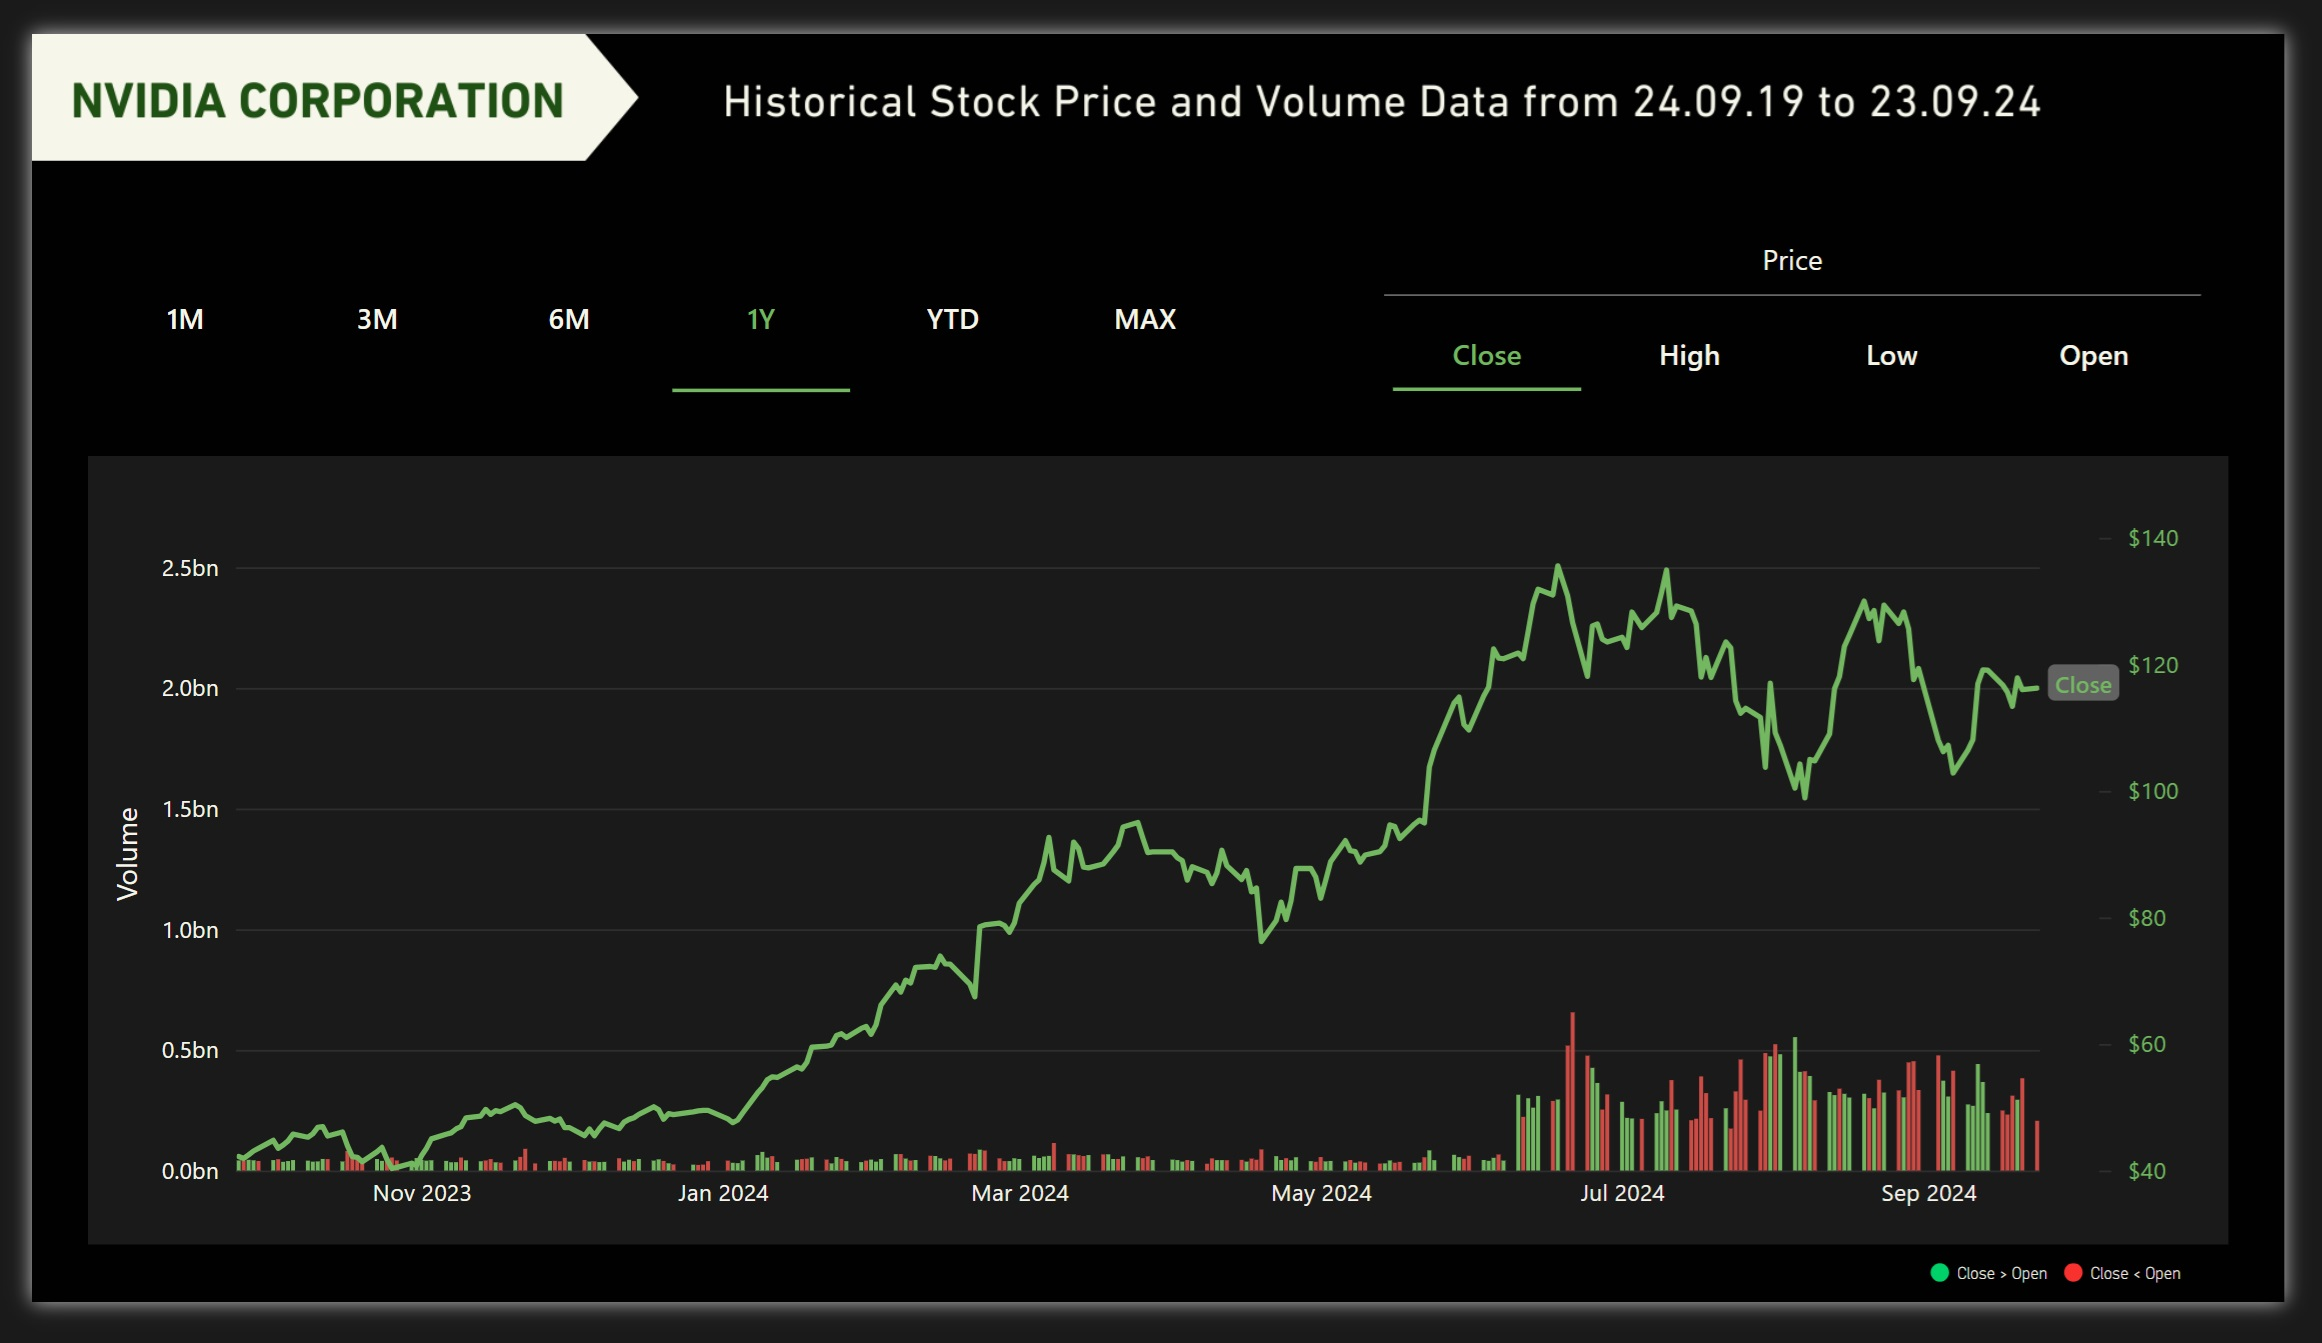

The page's visual inventory and layout, read from the dashboard file:
{"tool":"powerbi","page":{"name":"NVDIA","canvas":[1280,720],"ordinal":0},"visuals":[{"type":"lineClusteredColumnComboChart","title":"Text","fields":{"Y2":["Measure Table.Close"],"Category":["NVDA.Date"],"Y":["Measure Table.Volume Traded"]},"box":[32,240,1216,448],"z":0},{"type":"advancedSlicerVisual","title":"Price","fields":{"Values":["Price Parameter.Price Parameter"]},"box":[768,111,464,96],"z":1000},{"type":"advancedSlicerVisual","fields":{"Values":["Preset.Preset Code"]},"box":[32,112,656,96],"z":2000},{"type":"textbox","box":[1072,688,176,32],"z":3000}]}

Visuals, with their boxes in screenshot pixels (x1, y1, x2, y2), scaled from the page's 1280x720 canvas onto the 2322x1343 screenshot:
"Text" lineClusteredColumnComboChart: select_region(58, 448, 2264, 1283)
"Price" advancedSlicerVisual: select_region(1393, 207, 2235, 386)
advancedSlicerVisual - Preset.Preset Code: select_region(58, 209, 1248, 388)
textbox: select_region(1945, 1283, 2264, 1342)
